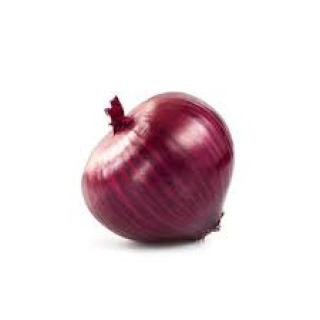Bawang Merah: (80, 90, 238, 249)
